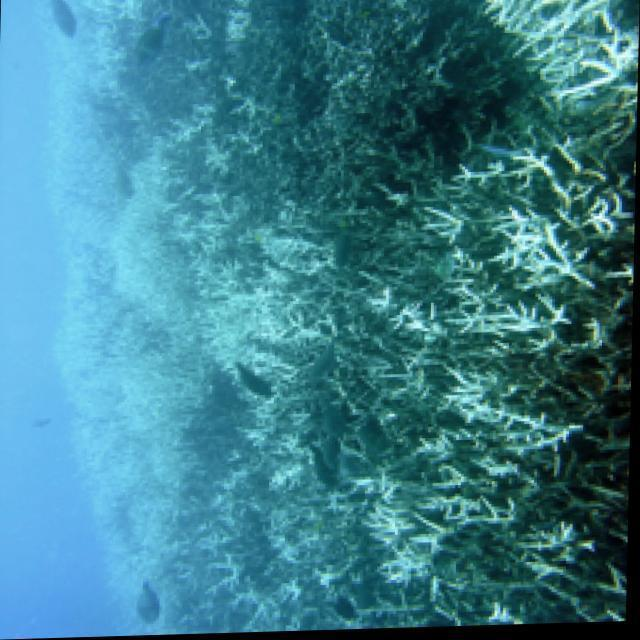Dead Coral: (317, 283, 635, 632), (120, 0, 507, 242)
